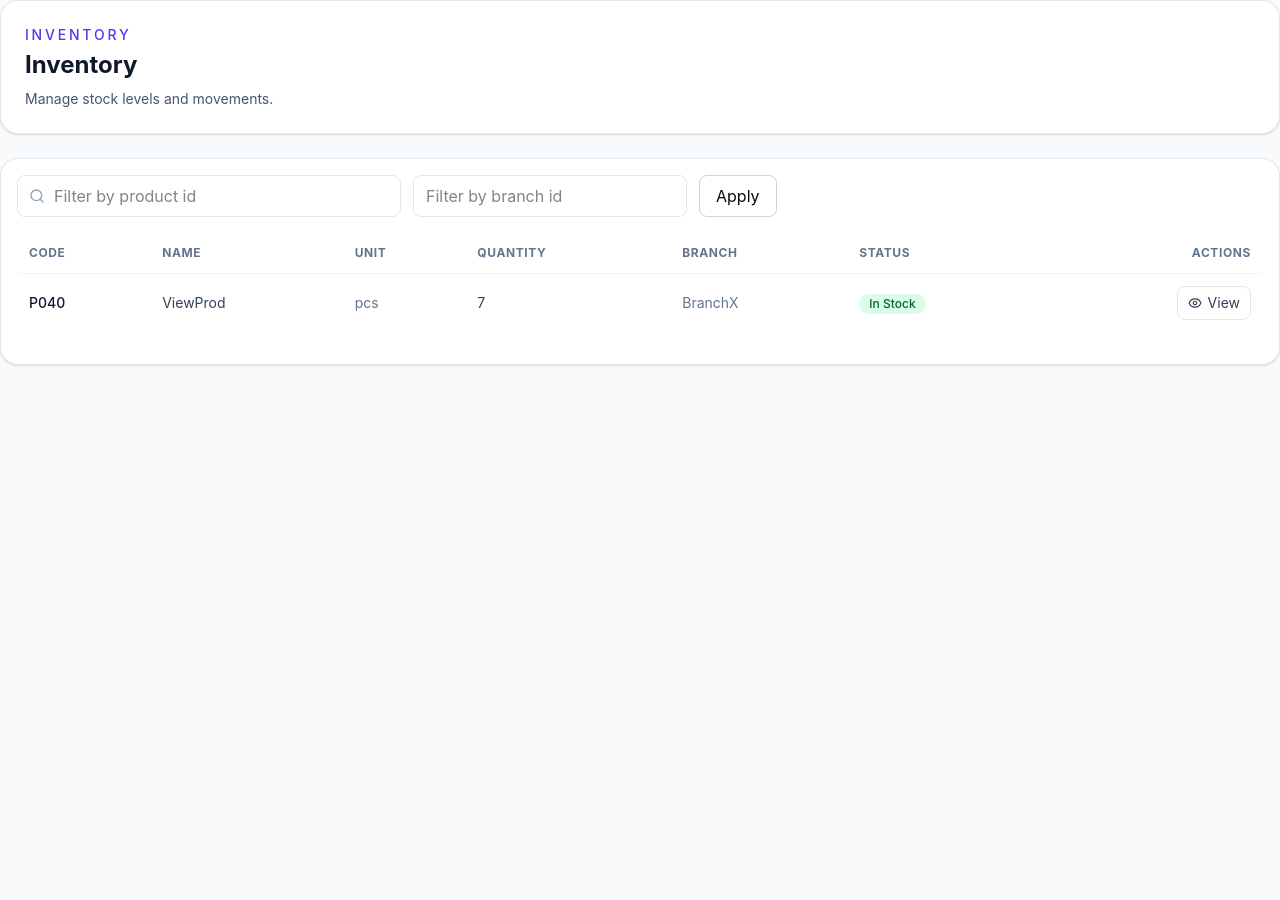
InventoryPage › allows viewing inventory detail
This screenshot has width=1280, height=900.
Expected: the text "ViewProd" is shown, x1=150 y1=274 x2=343 y2=332
Step 1. Click the button "View" → (1214, 303), box x1=1177 y1=286 x2=1251 y2=320
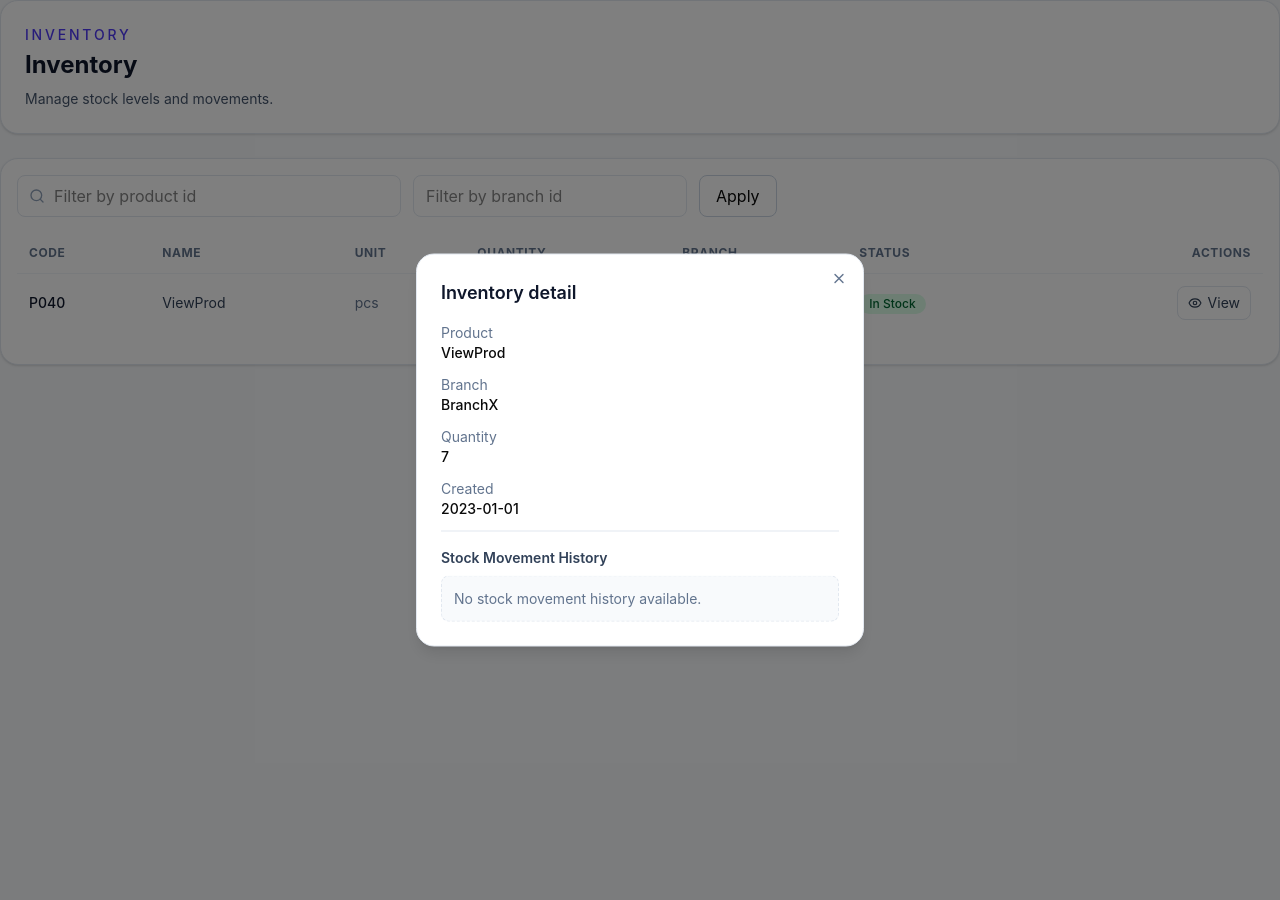
Expected: the heading "Inventory detail" is shown, x1=441 y1=282 x2=576 y2=302
Expected: the text "BranchX" is shown, x1=441 y1=396 x2=498 y2=412
Expected: the text "7" is shown, x1=441 y1=448 x2=449 y2=464
